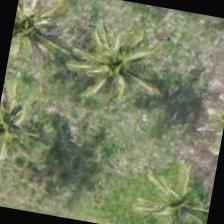Kelapa_Sawit: (59, 19, 163, 123), (128, 155, 217, 223), (5, 0, 76, 82), (0, 85, 49, 183)
